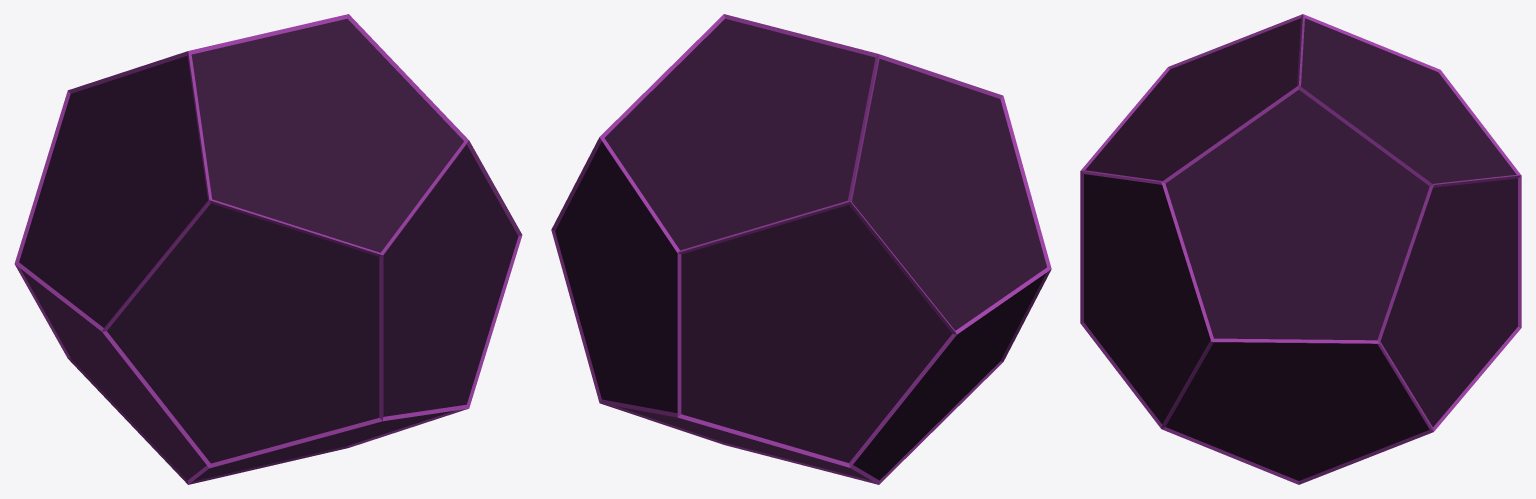
File: dodecaedro.glb
3 renders of one model, left to right at view 1: azimuth 30°, elevation 25°; view 2: azimuth 150°, elevation 25°; view 3: azimuth 270°, elevation 25°, orthographic. The views are drawn at different scales.
Visible parts, largest first — view 1: Solid.006, Solid.008; view 2: Solid.006, Solid.008; view 3: Solid.006, Solid.008.
Part boxes in pixels (left/top/right/bottom): Solid.006: left=19, top=18, right=518, bottom=481; Solid.008: left=14, top=14, right=522, bottom=484; Solid.006: left=555, top=18, right=1046, bottom=480; Solid.008: left=551, top=14, right=1051, bottom=484; Solid.006: left=1084, top=18, right=1517, bottom=480; Solid.008: left=1080, top=14, right=1521, bottom=484.
Size of the model in its own units: 1.9 by 1.89 by 1.89.
